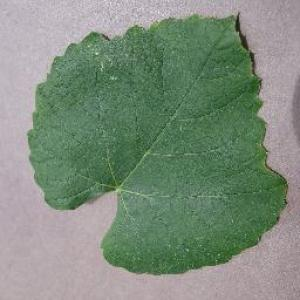Folha: (25, 11, 288, 275)
